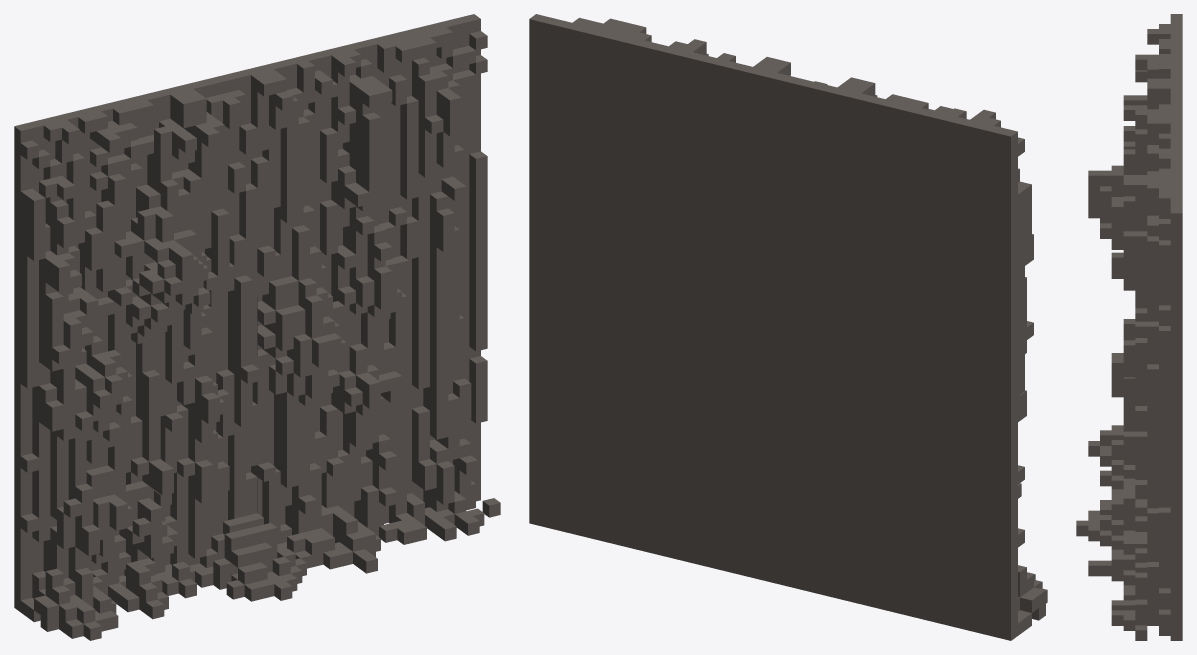
The model's file is bat-0.obj.
3 renders of one model, left to right at view 1: azimuth 30°, elevation 25°; view 2: azimuth 150°, elevation 25°; view 3: azimuth 270°, elevation 25°, orthographic. The views are drawn at different scales.
Size of the model in its own units: 4 by 4 by 0.9.
Materials: 1 (1 with a texture image).
